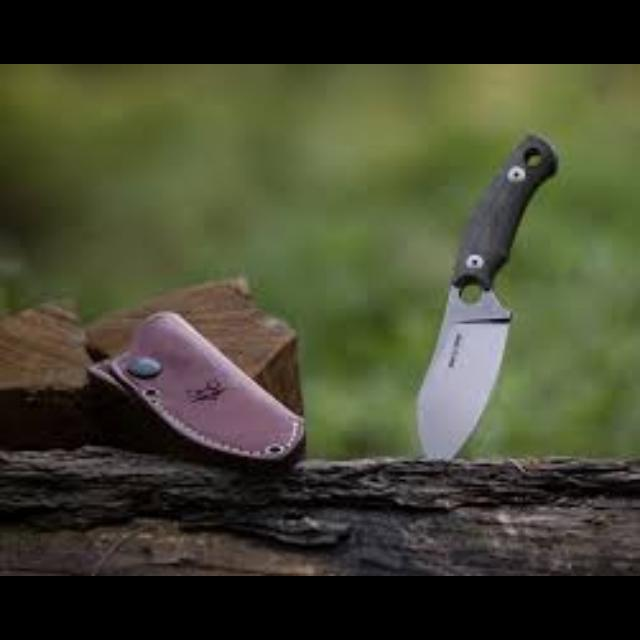Knife: (414, 131, 558, 459)
